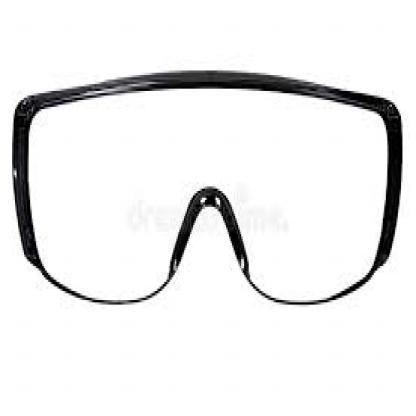goggles: (13, 64, 404, 338)
